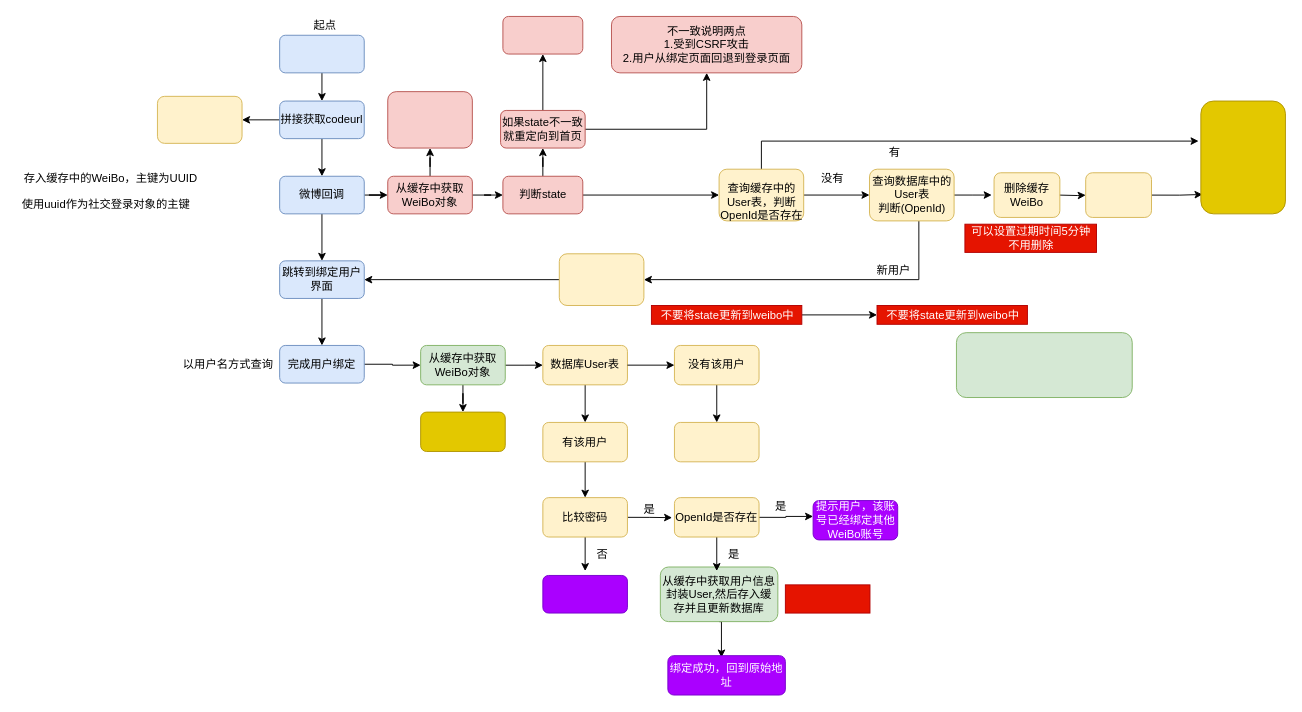
Some shapes in this 1302 by 712 pixel diagram are drawn without their labels. The centre of each missing label's shape, as x and y in pixels:
删除缓存中的WeiBo对象: the point at 542,35
可以从缓存中 获取ReturnUrl: the point at 827,598
微博登录: the point at 321,53
提示用户，用户名错误，可以去创建哦: the point at 716,441
更新缓存 User: the point at 1118,194
没有查询到重定向到首页，不往下执行: the point at 462,431
用户名或密码错误，给予提示: the point at 584,594
登录成功后，向认证中心要token: the point at 1044,365
登陆成功: the point at 1242,157
获取WeiBo用户信息，存入缓存: the point at 601,279
获取原始地址存入缓存(WeiBo对象)，过期时间为5分钟: the point at 199,119
获取回调地址,默认回调地址是首页: the point at 429,119
